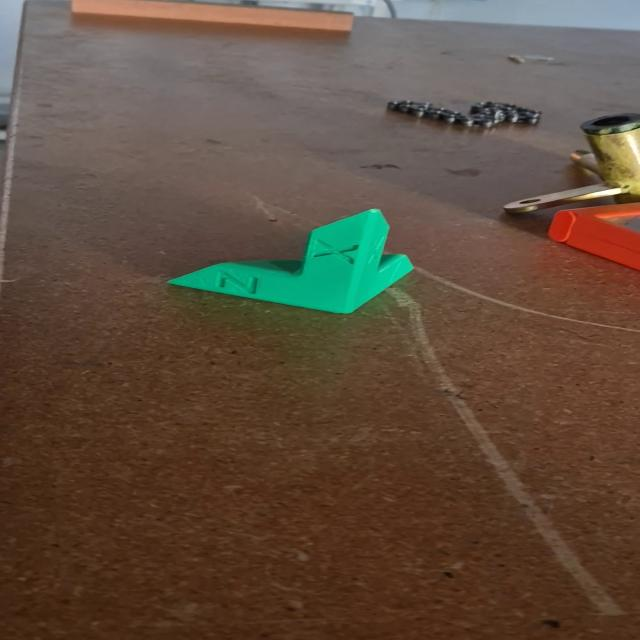objects: (162, 207, 418, 316)
